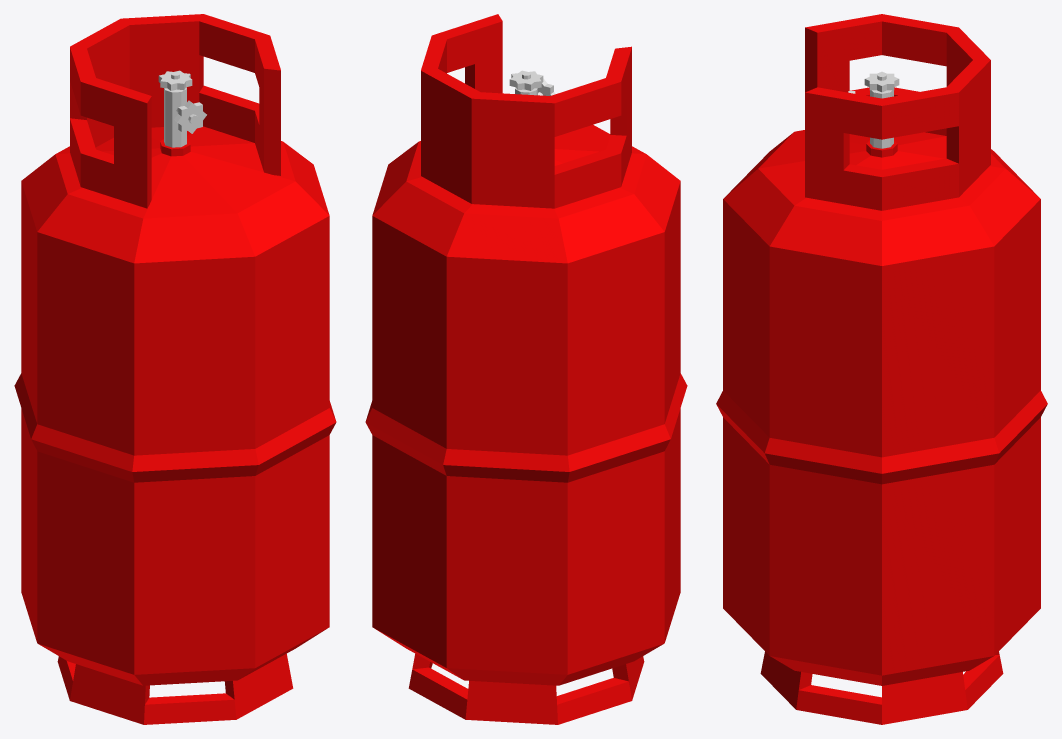
Rendered from gasBarrel.fbx.
3 renders of one model, left to right at view 1: azimuth 30°, elevation 25°; view 2: azimuth 150°, elevation 25°; view 3: azimuth 270°, elevation 25°, orthographic.
Parts seen in each view (by area): view 1: Cylinder; view 2: Cylinder; view 3: Cylinder.
Boxes of the visible parts, x1,y1,x2,y2 form: Cylinder: [14, 14, 336, 724]; Cylinder: [365, 14, 687, 724]; Cylinder: [716, 14, 1047, 724].
Bounding box in the file's own units: 35.72 × 72.88 × 35.72.
